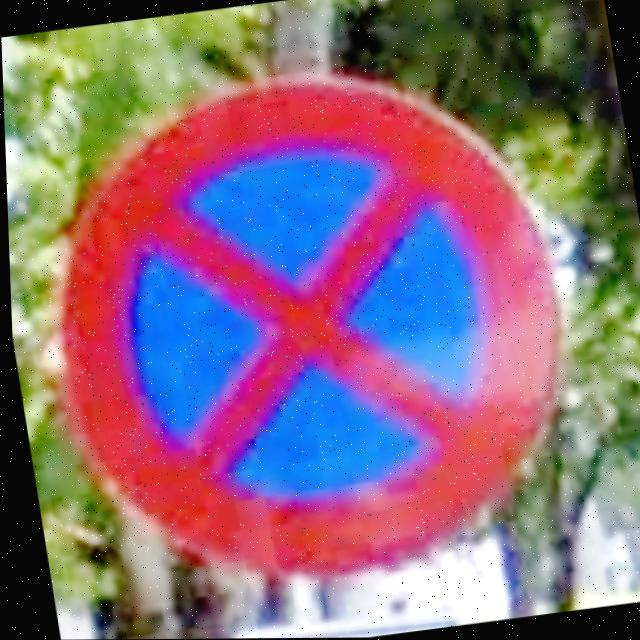nopark: (55, 75, 560, 580)
